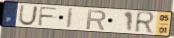1: (122, 11, 133, 33)
F: (37, 6, 60, 27)
I: (65, 7, 75, 30)
R: (133, 11, 157, 35), (85, 9, 108, 31)
U: (17, 4, 39, 27)
